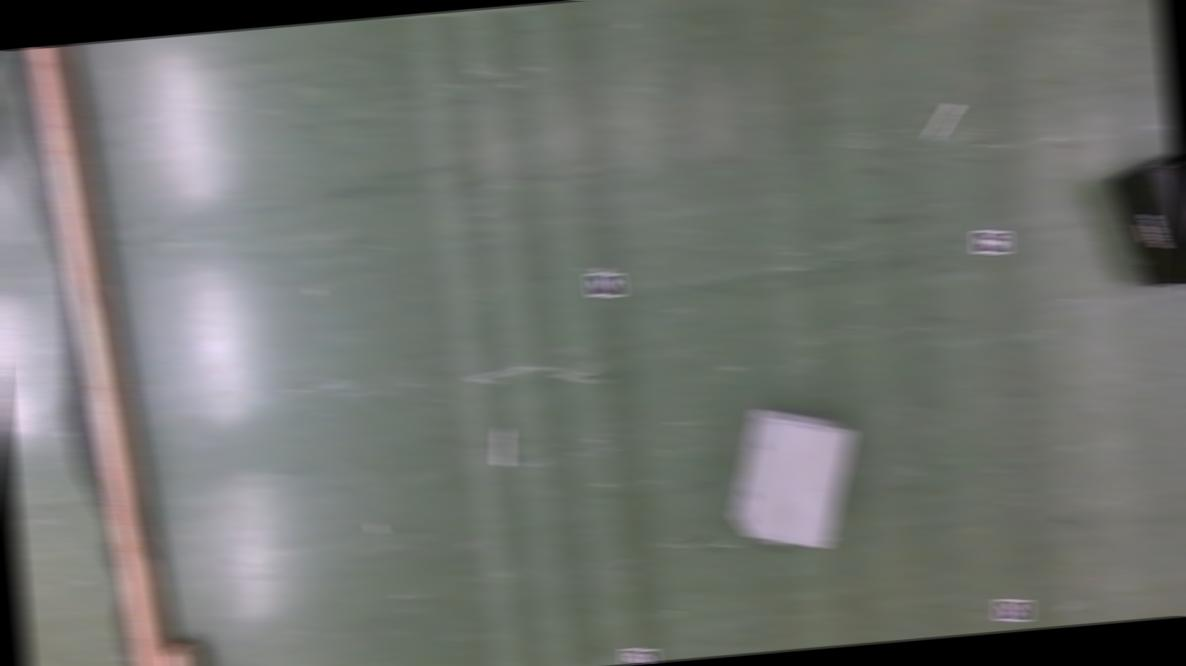probes: (926, 103, 960, 139), (490, 425, 510, 464)
rako: (721, 398, 863, 554), (1104, 149, 1186, 291)
